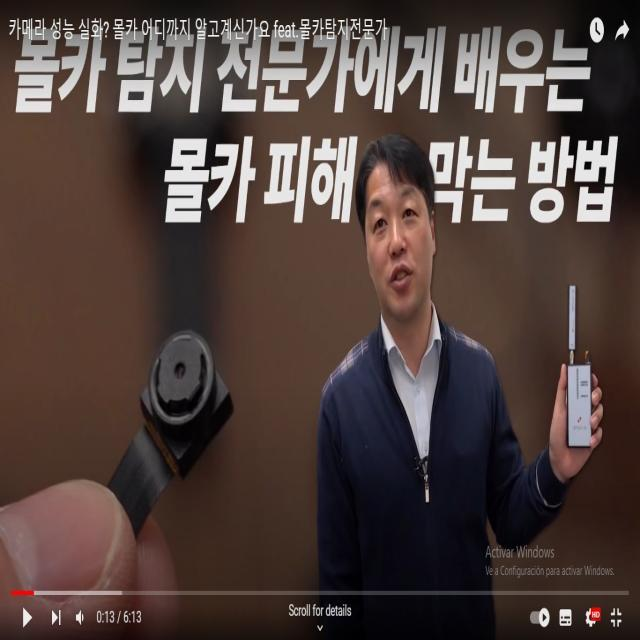hidden camera: (172, 357, 189, 383)
